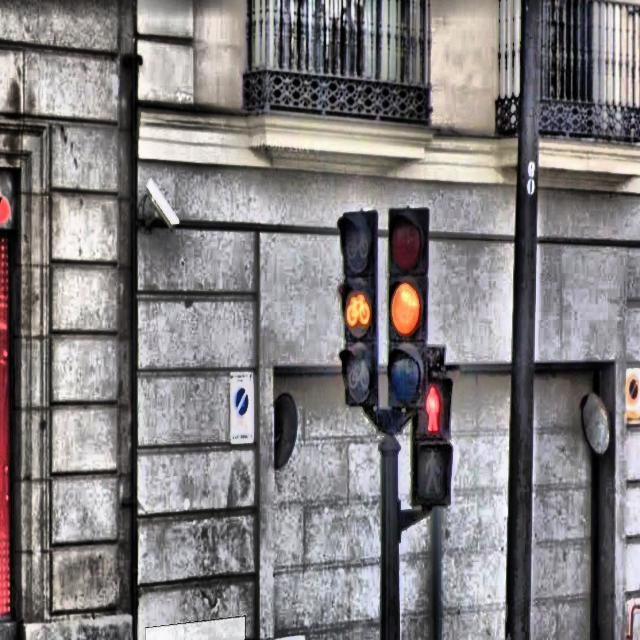yellow: (387, 210, 427, 419)
